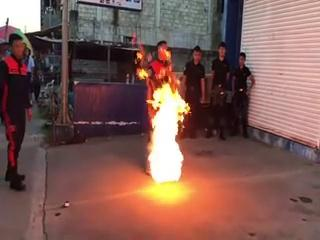Fire: (142, 82, 193, 189)
